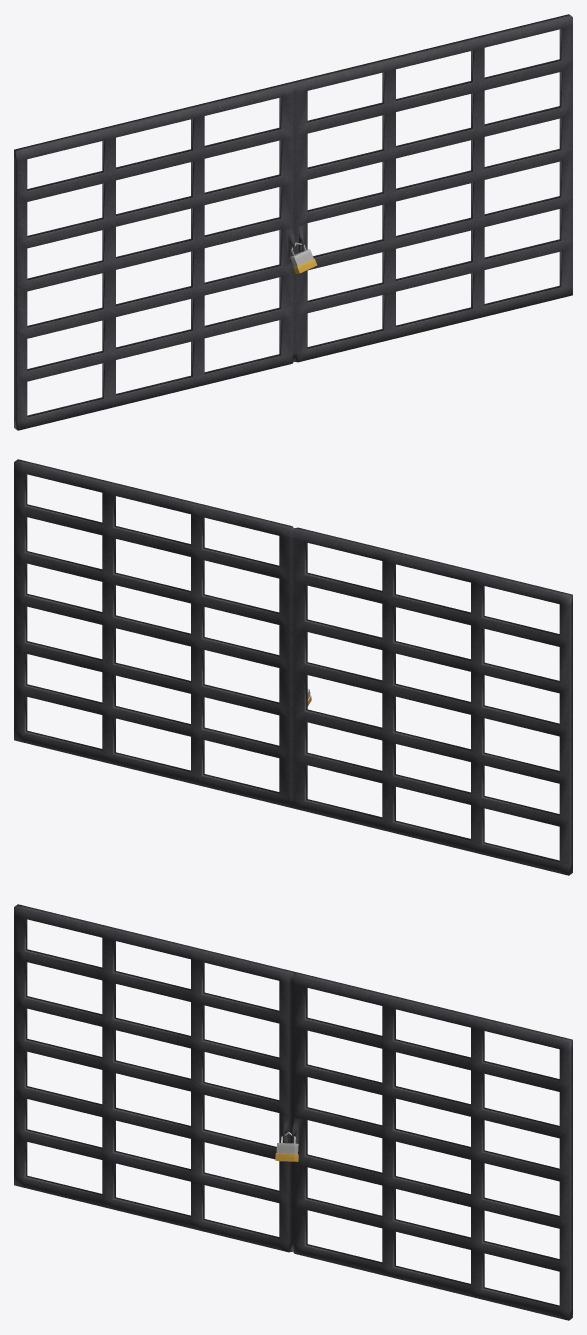
Rendered from window_grill-big.fbx.
The picture shows the model from 3 angles, top to bottom: view 1: azimuth 30°, elevation 25°; view 2: azimuth 150°, elevation 25°; view 3: azimuth 330°, elevation 25°; orthographic projection.
Visible parts, largest first — view 1: lock2; view 2: lock2; view 3: lock2.
Boxes of the visible parts, x1=… form: lock2: x1=14, y1=14, x2=572, y2=430; lock2: x1=14, y1=459, x2=572, y2=875; lock2: x1=14, y1=904, x2=572, y2=1320.
Size of the model in its own units: 928 by 445 by 41.55.
